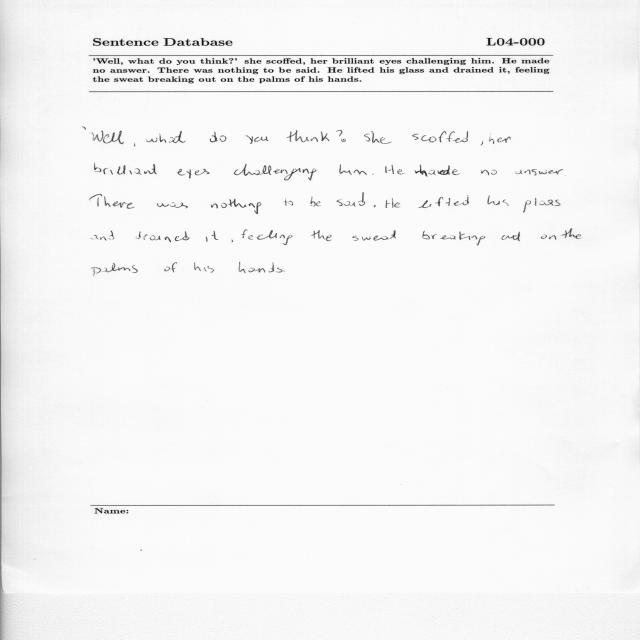word: (234, 164, 316, 180), (422, 231, 485, 245), (242, 230, 293, 245), (211, 199, 261, 214), (95, 164, 157, 175), (90, 194, 135, 209), (412, 131, 468, 143), (418, 195, 469, 208), (92, 263, 138, 276), (137, 232, 189, 243), (523, 198, 560, 213), (414, 165, 460, 177), (287, 130, 329, 142), (352, 230, 396, 241), (239, 263, 283, 274), (147, 131, 186, 143), (90, 131, 124, 144), (337, 193, 366, 207), (177, 169, 210, 179), (339, 164, 367, 175), (371, 131, 392, 144), (489, 133, 511, 144), (311, 230, 332, 241), (561, 228, 582, 239), (516, 169, 553, 175), (488, 196, 509, 206), (385, 165, 405, 175), (95, 231, 115, 241), (194, 263, 214, 273), (246, 135, 268, 144), (501, 232, 520, 242), (157, 203, 188, 209), (210, 132, 226, 143), (386, 199, 401, 209), (206, 231, 218, 242), (164, 262, 177, 272), (336, 130, 346, 142), (310, 197, 321, 206), (481, 170, 497, 175), (541, 235, 556, 240), (552, 169, 563, 174), (284, 200, 293, 206), (364, 134, 370, 142), (83, 126, 86, 130), (481, 142, 484, 146), (134, 143, 135, 147), (374, 205, 376, 207), (232, 240, 233, 242), (283, 271, 285, 272), (372, 174, 374, 174)
